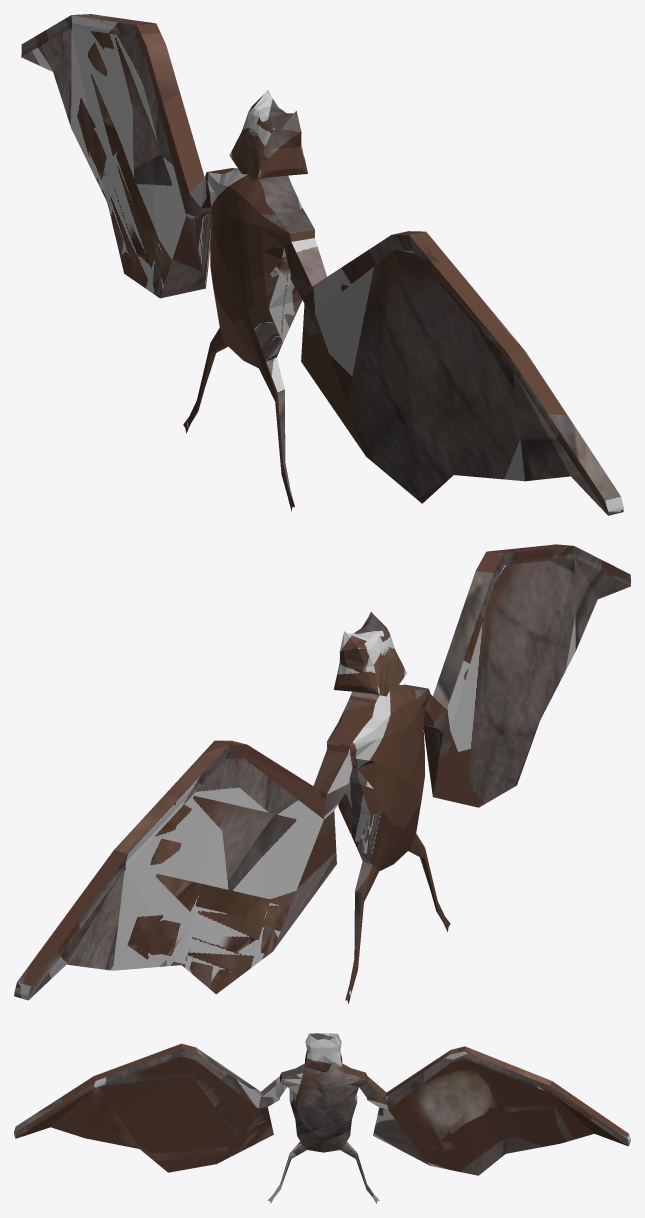
File: Enemigo127.obj
3 renders of one model, top to bottom at view 1: azimuth 30°, elevation 25°; view 2: azimuth 150°, elevation 25°; view 3: azimuth 270°, elevation 25°, orthographic. The views are drawn at different scales.
Parts seen in each view (by area): view 1: Plano; view 2: Plano; view 3: Plano.
Boxes of the visible parts, x1,y1,x2,y2 form: Plano: (21, 14, 623, 515); Plano: (14, 544, 630, 1003); Plano: (14, 1033, 630, 1203).
Size of the model in its own units: 0.257 by 0.7538 by 2.33.
Materials: 1 (1 with a texture image).
